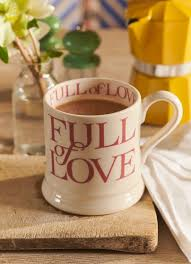mug: (17, 55, 183, 230)
